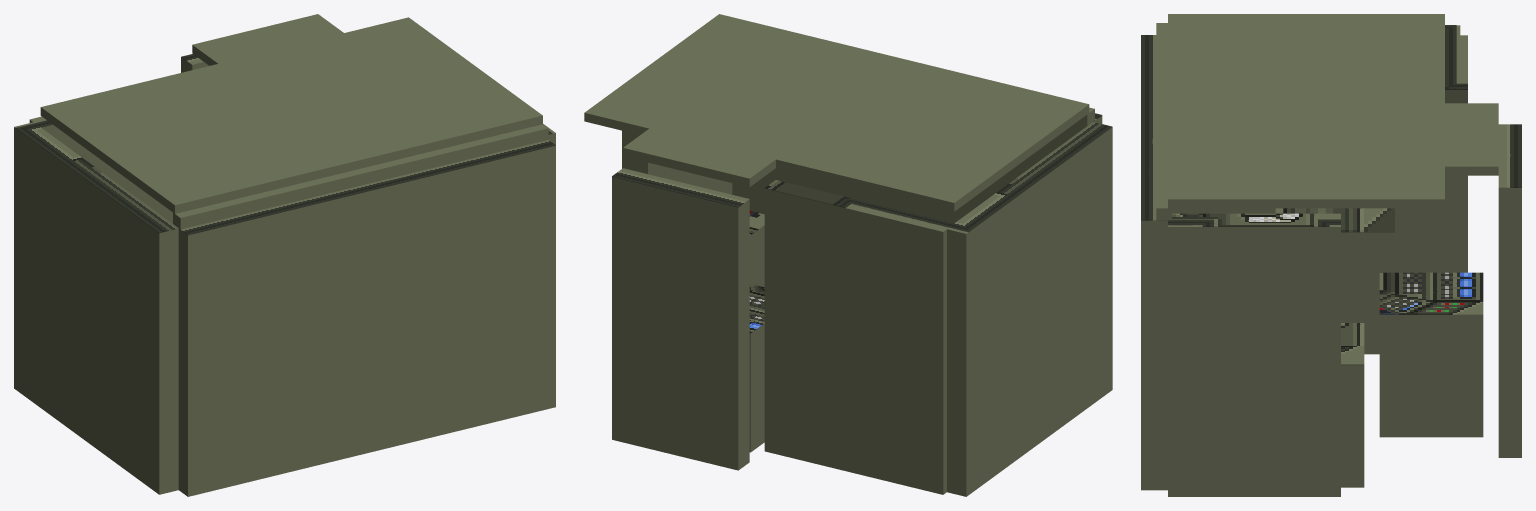
File: CMU3DInteriorVehicleSPPTankChassis.glb
3 views of the same model, side by side, from view 1: azimuth 30°, elevation 25°; view 2: azimuth 150°, elevation 25°; view 3: azimuth 270°, elevation 25° (orthographic). The views are drawn at different scales.
Parts seen in each view (by area): view 1: stepped hull bulkhead (×3), cabin roof, overhead structural rail, stepped hull bulkhead source finish (×2), raised station roof; view 2: stepped hull bulkhead (×5), cabin roof, stepped hull bulkhead source finish (×3), raised station roof, armored equipment console (×2), armored equipment console source finish; view 3: stepped hull bulkhead (×5), cabin roof, armored equipment console (×3), stepped hull bulkhead source finish (×4), armored equipment console source finish (×3), raised station roof, overhead structural rail.
Boxes of the visible parts, box(x1,y1,x2,y2) form: stepped hull bulkhead (×3): box(14, 116, 555, 496); cabin roof: box(40, 17, 542, 213); overhead structural rail: box(173, 124, 548, 229); stepped hull bulkhead source finish (×2): box(16, 123, 555, 235); raised station roof: box(192, 14, 343, 65); stepped hull bulkhead (×5): box(612, 116, 1112, 496); cabin roof: box(584, 14, 1089, 211); stepped hull bulkhead source finish (×3): box(612, 122, 1112, 232); raised station roof: box(623, 128, 775, 187); armored equipment console (×2): box(749, 213, 764, 452); armored equipment console source finish: box(749, 284, 764, 333); stepped hull bulkhead (×5): box(1141, 25, 1521, 496); cabin roof: box(1168, 14, 1444, 208); armored equipment console (×3): box(1275, 208, 1483, 487); stepped hull bulkhead source finish (×4): box(1141, 35, 1521, 226); armored equipment console source finish (×3): box(1283, 208, 1483, 365); raised station roof: box(1445, 103, 1498, 175); overhead structural rail: box(1156, 23, 1171, 220).
Size of the model in its own units: 3.88 by 2.61 by 3.09.
Materials: 9 (8 with a texture image).
